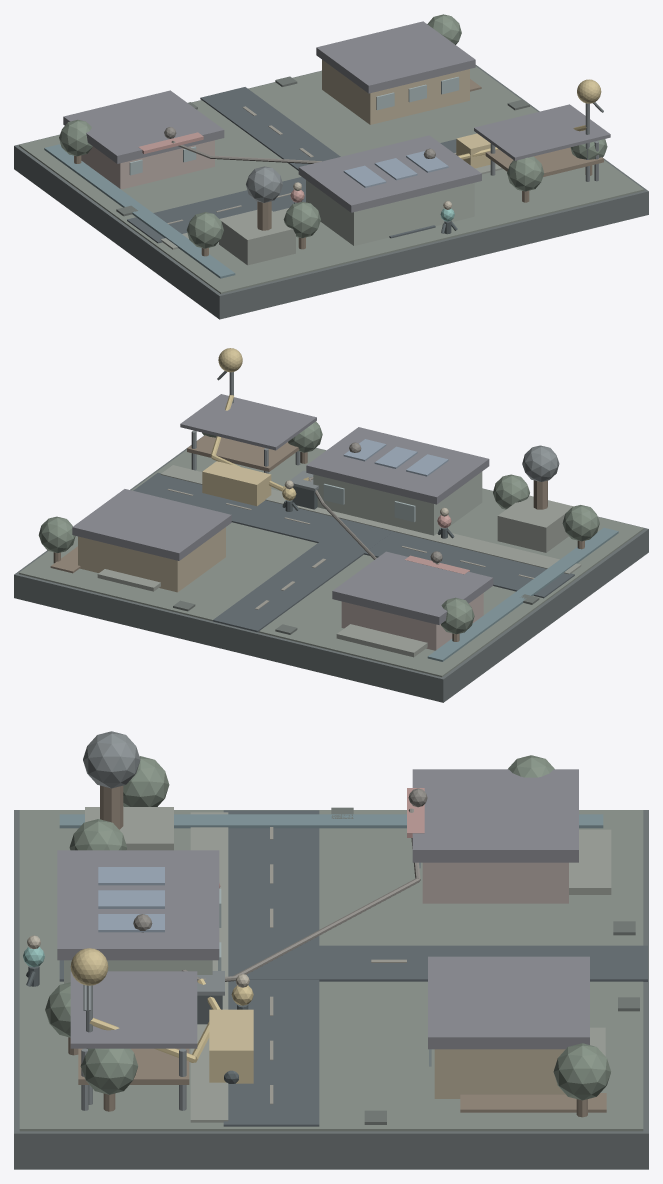
Rendered from yudae_p_shuttle.glb.
The picture shows the model from 3 angles, top to bottom: view 1: azimuth 30°, elevation 25°; view 2: azimuth 150°, elevation 25°; view 3: azimuth 270°, elevation 25°; orthographic projection. The views are drawn at different scales.
Parts seen in each view (by area): view 1: g0001, g0000, g0037, g0043, g0031, g0042, g0003, g0054, g0036, g0030, g0061, g0002 (+15 smaller); view 2: g0001, g0000, g0002, g0037, g0043, g0031, g0003, g0042, g0036, g0054, g0015, g0061 (+14 smaller); view 3: g0001, g0000, g0002, g0037, g0031, g0043, g0003, g0054, g0030, g0036, g0015, g0016 (+19 smaller).
Part boxes in pixels (<box>): g0001: <box>19,66,643,293</box>; g0000: <box>14,65,648,319</box>; g0037: <box>316,21,475,93</box>; g0043: <box>298,135,481,212</box>; g0031: <box>63,90,224,163</box>; g0042: <box>306,180,474,245</box>; g0003: <box>200,87,435,238</box>; g0054: <box>474,104,610,160</box>; g0036: <box>322,60,469,124</box>; g0030: <box>81,140,214,189</box>; g0061: <box>219,210,295,265</box>; g0002: <box>127,139,456,243</box>; g0001: <box>19,448,643,677</box>; g0000: <box>14,436,648,702</box>; g0002: <box>133,472,574,598</box>; g0037: <box>72,489,231,560</box>; g0043: <box>306,427,489,504</box>; g0031: <box>332,551,493,624</box>; g0003: <box>213,520,393,632</box>; g0042: <box>313,471,482,535</box>; g0036: <box>78,527,225,592</box>; g0054: <box>180,394,316,450</box>; g0015: <box>160,465,581,574</box>; g0061: <box>497,495,572,552</box>; g0001: <box>19,810,643,1131</box>; g0000: <box>14,810,648,1169</box>; g0002: <box>223,810,319,1126</box>; g0037: <box>428,956,589,1049</box>; g0031: <box>412,769,578,862</box>; g0043: <box>57,850,219,960</box>; g0003: <box>59,945,647,981</box>; g0054: <box>70,971,197,1048</box>; g0030: <box>422,862,568,903</box>; g0036: <box>434,1049,565,1098</box>; g0015: <box>190,812,228,1122</box>; g0016: <box>59,814,603,828</box>.
Size of the model in its own units: 3.45 by 0.96 by 2.86.
